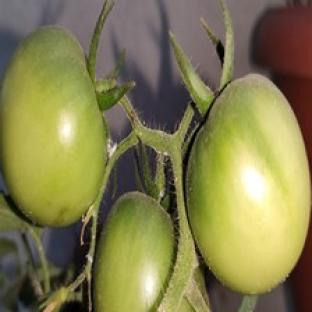Tomato: (186, 74, 310, 293), (0, 27, 107, 227), (94, 193, 175, 311)
